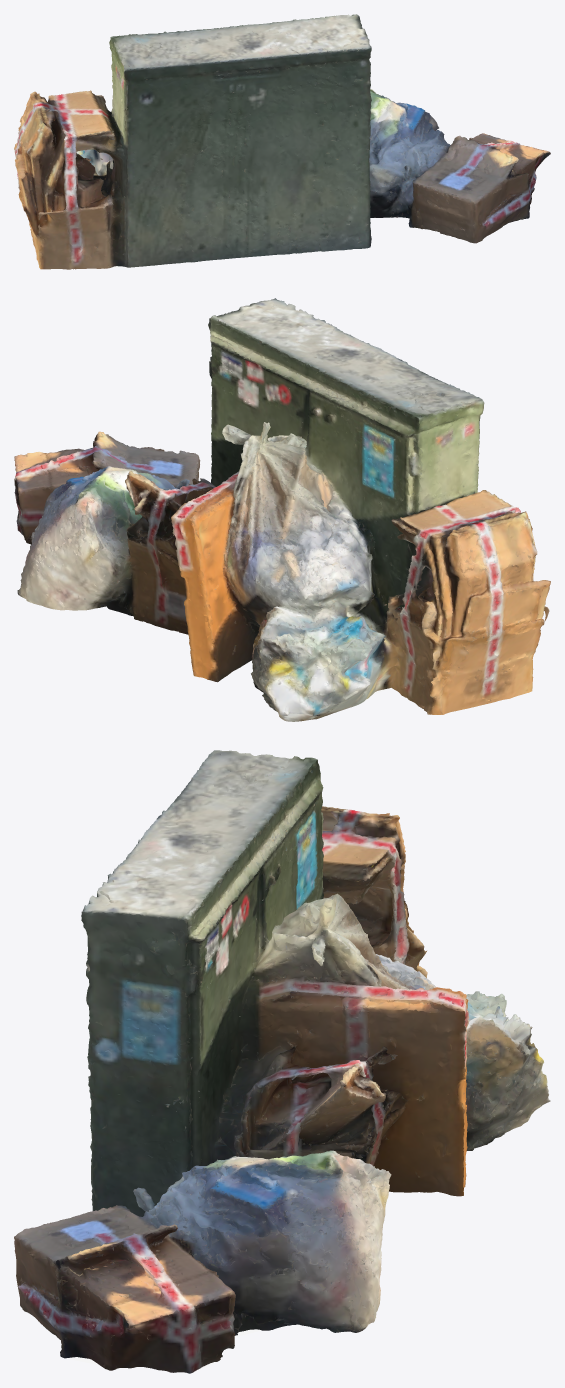
Rendered from trash_pile.glb.
3 views of the same model, one above another, from view 1: azimuth 30°, elevation 25°; view 2: azimuth 150°, elevation 25°; view 3: azimuth 270°, elevation 25° (orthographic). The views are drawn at different scales.
Parts seen in each view (by area): view 1: Object_26; view 2: Object_26; view 3: Object_26.
Boxes of the visible parts, x1,y1,x2,y2 form: Object_26: (14, 14, 550, 269); Object_26: (14, 298, 550, 721); Object_26: (14, 750, 550, 1373).
Bounding box in the file's own units: 2.59 × 1.07 × 1.56.
2 materials, 1 textured.
